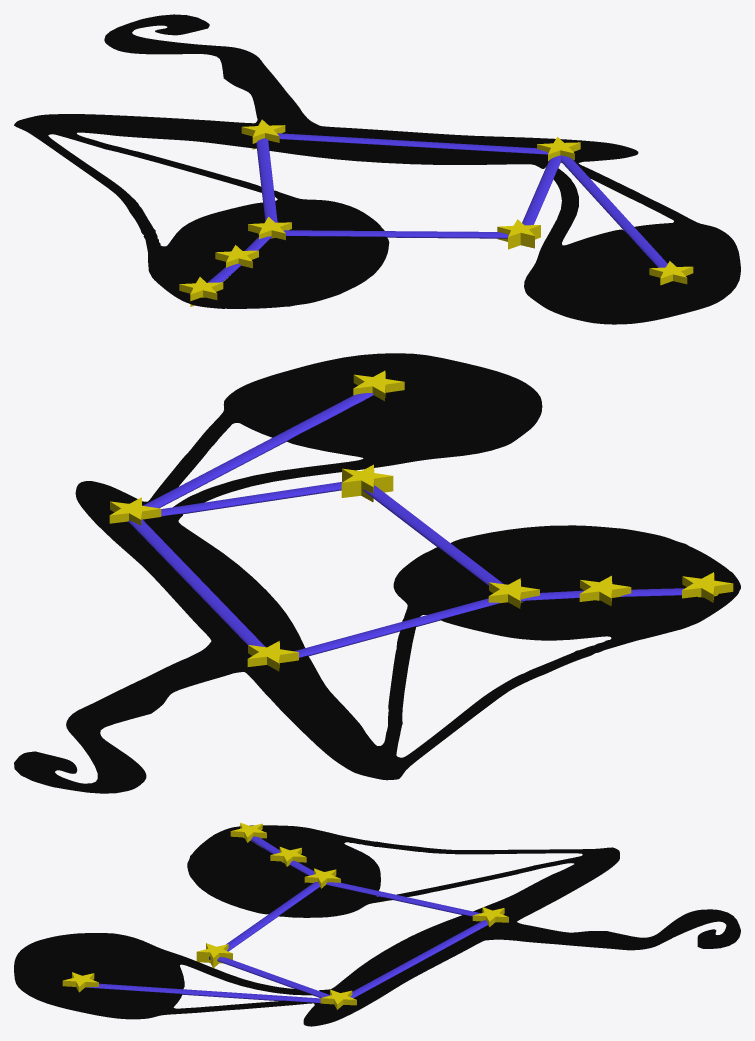
The model's file is Tenbin-za.glb.
3 views of the same model, one above another, from view 1: azimuth 30°, elevation 25°; view 2: azimuth 150°, elevation 25°; view 3: azimuth 270°, elevation 25° (orthographic). The views are drawn at different scales.
Visible parts, largest first — view 1: トレース, 円柱.016, 円柱, 円柱.009, 円柱.013, 円柱.008, 円.004, 円.008, 円.007, 円.018, 円.010, 円.001 (+1 smaller); view 2: トレース, 円柱, 円柱.016, 円柱.013, 円柱.009, 円柱.008, 円.004, 円.008, 円.018, 円.001, 円.013, 円.007 (+1 smaller); view 3: トレース, 円柱, 円柱.016, 円柱.013, 円柱.009, 円柱.008, 円.004, 円.013, 円.018, 円.008, 円.001, 円.007 (+1 smaller).
Part boxes in pixels (x1,y1,x2,y2): トレース: (14, 14, 740, 324); 円柱.016: (277, 133, 548, 154); 円柱: (560, 155, 667, 267); 円柱.009: (283, 230, 508, 238); 円柱.013: (256, 138, 277, 222); 円柱.008: (522, 155, 561, 225); 円.004: (497, 219, 540, 249); 円.008: (179, 277, 223, 306); 円.007: (649, 261, 693, 285); 円.018: (241, 119, 285, 149); 円.010: (248, 217, 291, 240); 円.001: (215, 245, 258, 268); トレース: (14, 353, 740, 793); 円柱: (143, 393, 373, 508); 円柱.016: (128, 519, 265, 646); 円柱.013: (294, 598, 499, 657); 円柱.009: (363, 485, 503, 585); 円柱.008: (161, 481, 342, 516); 円.004: (341, 464, 393, 501); 円.008: (682, 572, 733, 602); 円.018: (247, 641, 298, 671); 円.001: (579, 575, 631, 606); 円.013: (109, 497, 161, 525); 円.007: (353, 370, 404, 401); トレース: (14, 825, 740, 1026); 円柱: (85, 983, 320, 1002); 円柱.016: (350, 920, 487, 998); 円柱.013: (326, 882, 480, 916); 円柱.009: (209, 881, 319, 959); 円柱.008: (217, 957, 330, 997); 円.004: (196, 943, 232, 967); 円.013: (320, 989, 356, 1009); 円.018: (472, 907, 508, 926); 円.008: (230, 822, 266, 842); 円.001: (270, 847, 306, 866); 円.007: (62, 972, 98, 992).
Bounding box in the file's own units: 37.18 × 0.8959 × 56.74.
